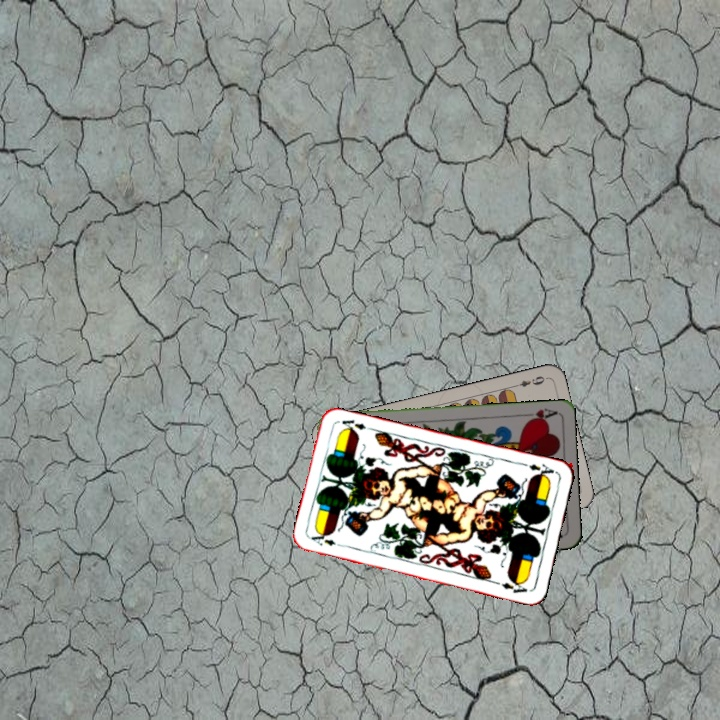E9: (509, 372, 549, 390)
EA: (518, 458, 558, 481), (307, 532, 347, 550)
HA: (518, 404, 558, 425)
